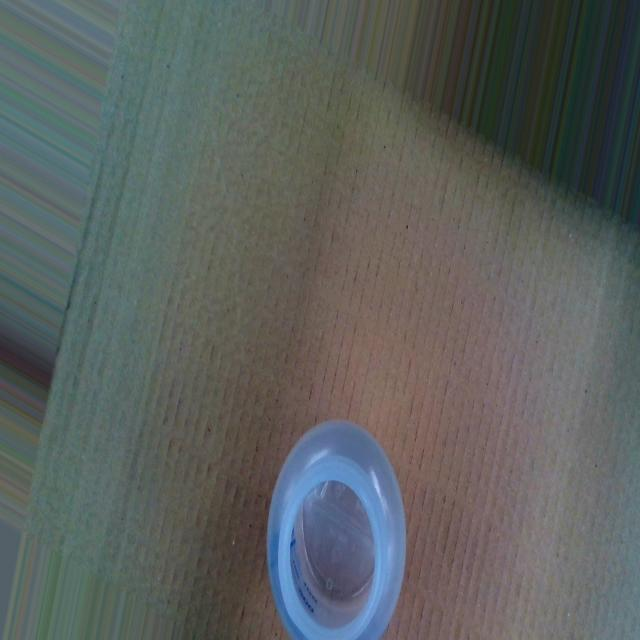bottle: (262, 410, 411, 640)
